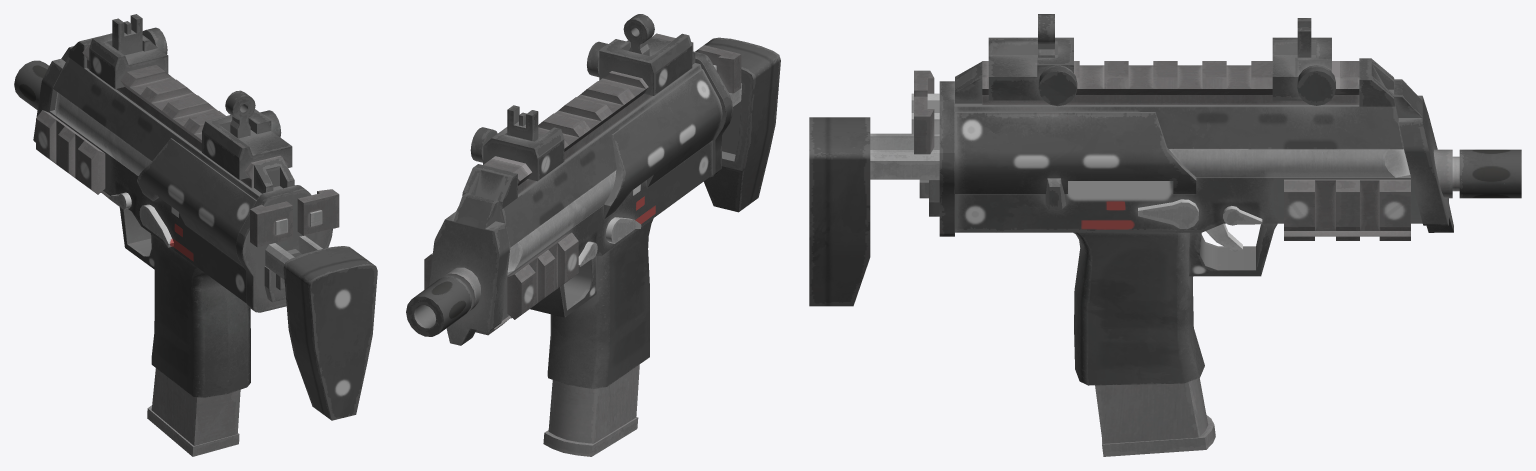
File: IG_Gun_Mp7.fbx
The picture shows the model from 3 angles, left to right: view 1: azimuth 30°, elevation 25°; view 2: azimuth 150°, elevation 25°; view 3: azimuth 270°, elevation 25°; orthographic projection. The views are drawn at different scales.
Parts seen in each view (by area): view 1: WPN_MP7, HideIf_Stock, HideIf_Scope, HideIf_Muzzle; view 2: WPN_MP7, HideIf_Stock, HideIf_Scope, HideIf_Muzzle; view 3: WPN_MP7, HideIf_Stock, HideIf_Scope, HideIf_Muzzle.
Part boxes in pixels (<box>): WPN_MP7: <box>33,33,332,456</box>; HideIf_Stock: <box>250,189,377,420</box>; HideIf_Scope: <box>89,14,292,179</box>; HideIf_Muzzle: <box>14,60,48,109</box>; WPN_MP7: <box>424,51,733,456</box>; HideIf_Stock: <box>652,33,780,212</box>; HideIf_Scope: <box>470,14,692,181</box>; HideIf_Muzzle: <box>406,276,471,336</box>; WPN_MP7: <box>939,58,1459,456</box>; HideIf_Stock: <box>809,70,939,306</box>; HideIf_Scope: <box>988,14,1335,106</box>; HideIf_Muzzle: <box>1459,149,1521,198</box>.
Bounding box in the file's own units: 0.1169 × 0.4458 × 0.6694.
